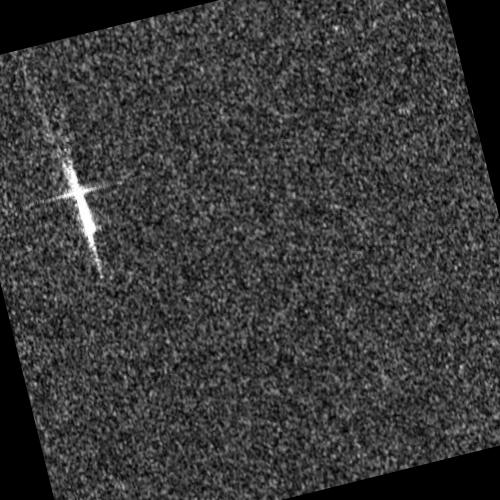ship: (62, 158, 97, 247)
